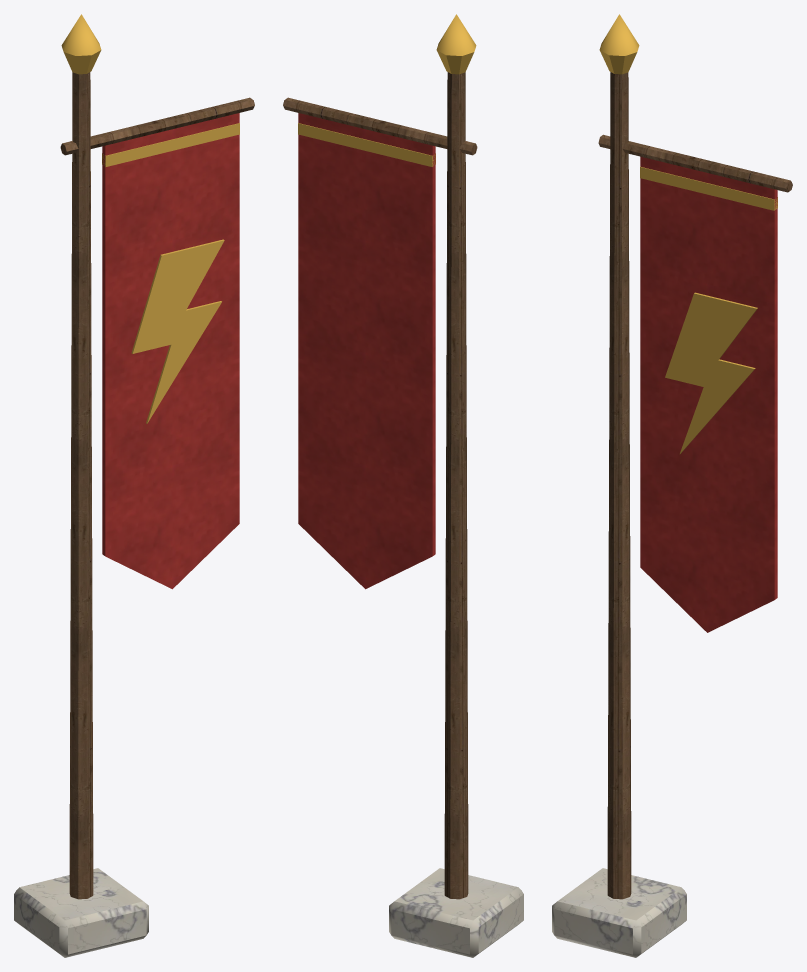
File: decor_banner_t1_red.glb
3 views of the same model, side by side, from view 1: azimuth 30°, elevation 25°; view 2: azimuth 150°, elevation 25°; view 3: azimuth 330°, elevation 25° (orthographic).
Visible parts, largest first — view 1: cloth_red, wood_dark, gold, step; view 2: cloth_red, wood_dark, step, gold; view 3: cloth_red, wood_dark, gold, step.
Part boxes in pixels (x1=…): cloth_red: x1=102, y1=113, x2=239, y2=589; wood_dark: x1=60, y1=72, x2=254, y2=899; gold: x1=61, y1=14, x2=239, y2=423; step: x1=14, y1=868, x2=148, y2=957; cloth_red: x1=298, y1=113, x2=435, y2=589; wood_dark: x1=283, y1=72, x2=477, y2=899; step: x1=389, y1=868, x2=523, y2=957; gold: x1=298, y1=14, x2=476, y2=166; cloth_red: x1=640, y1=156, x2=777, y2=632; wood_dark: x1=598, y1=72, x2=792, y2=899; gold: x1=599, y1=14, x2=777, y2=453; step: x1=552, y1=868, x2=686, y2=957.
Size of the model in its own units: 1.21 by 4.9 by 0.5.
4 materials, 3 textured.
